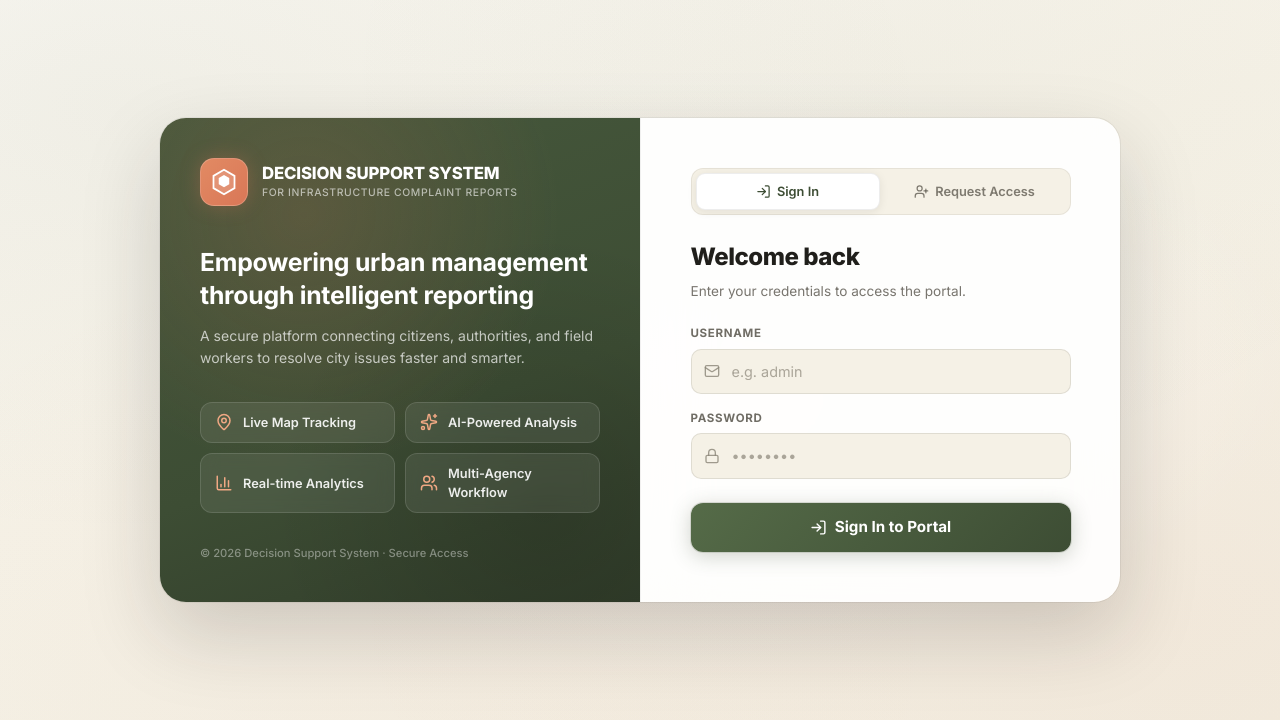
Test case: API Intercept & Error Handling › handles server failure (500 error) gracefully
Type "admin" into the field with placeholder "e.g. admin" at {"x": 881, "y": 372}, box left=691, top=349, right=1071, bottom=395
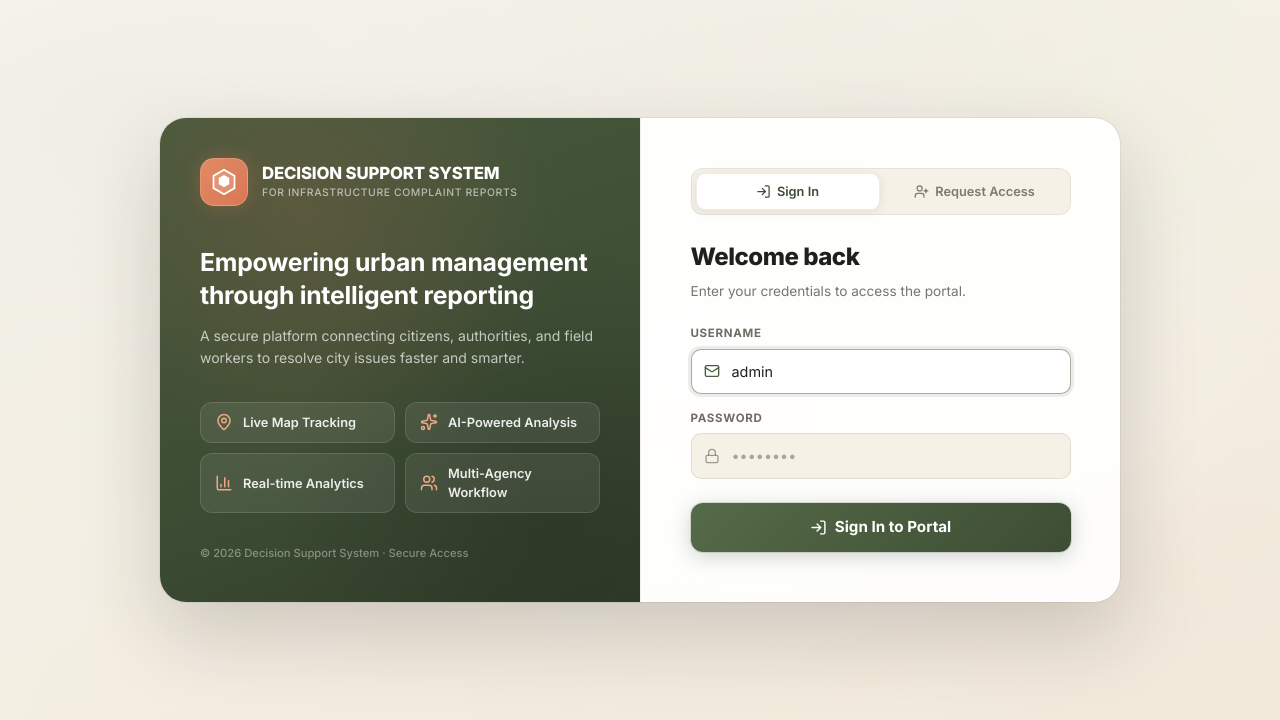
Type "password" into the password field with placeholder "••••••••" at {"x": 881, "y": 456}, box left=691, top=433, right=1071, bottom=479
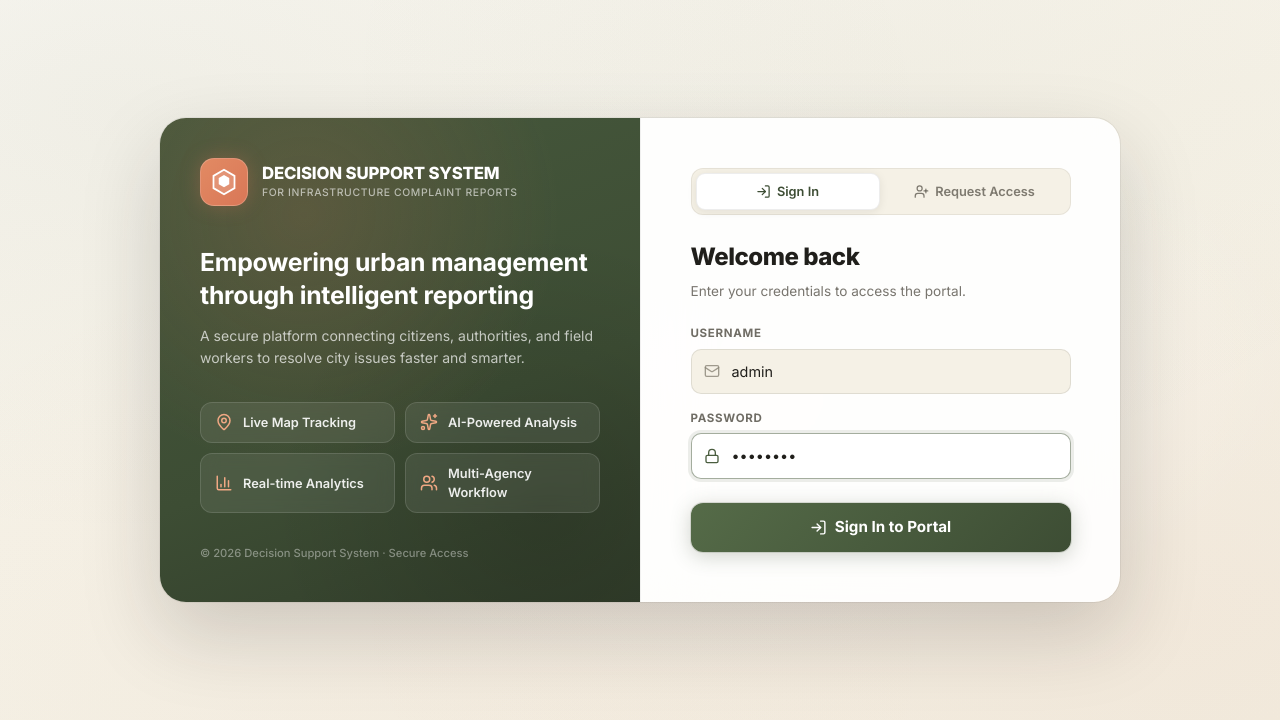
Click the submit button at {"x": 881, "y": 528}, box left=691, top=503, right=1071, bottom=552
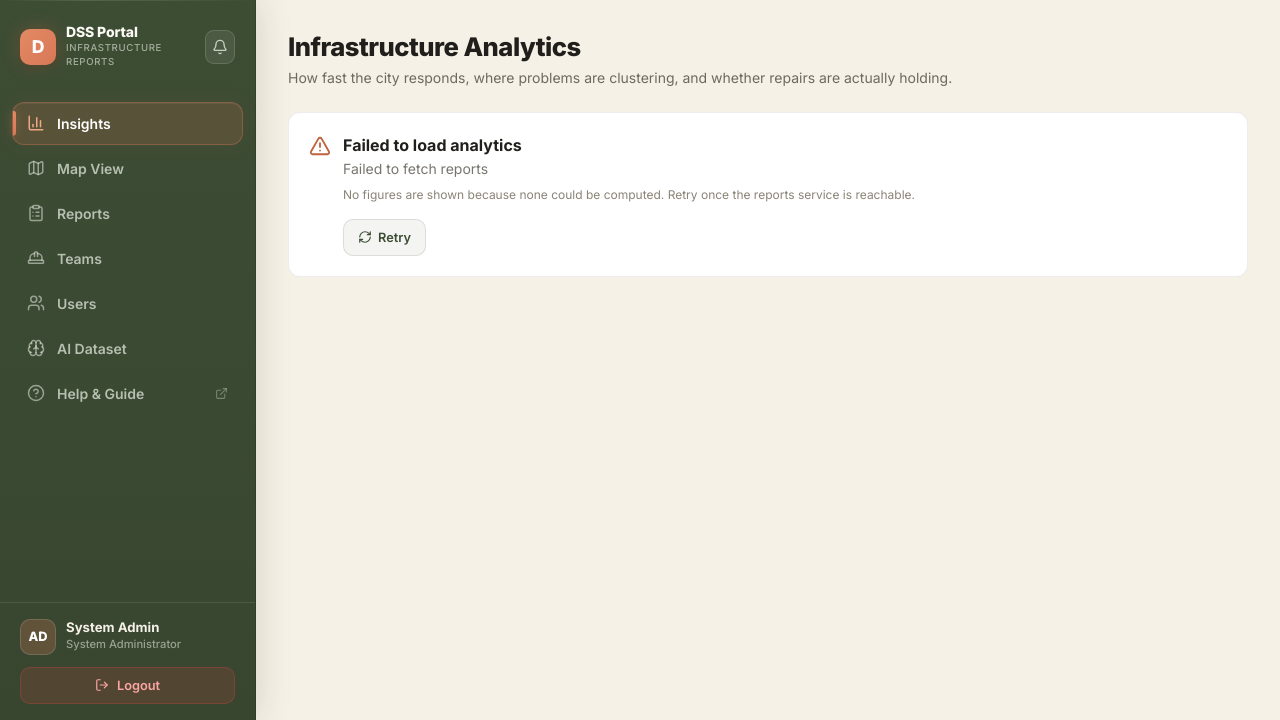
Click the link "Reports" at {"x": 69, "y": 213}, box left=27, top=204, right=110, bottom=222
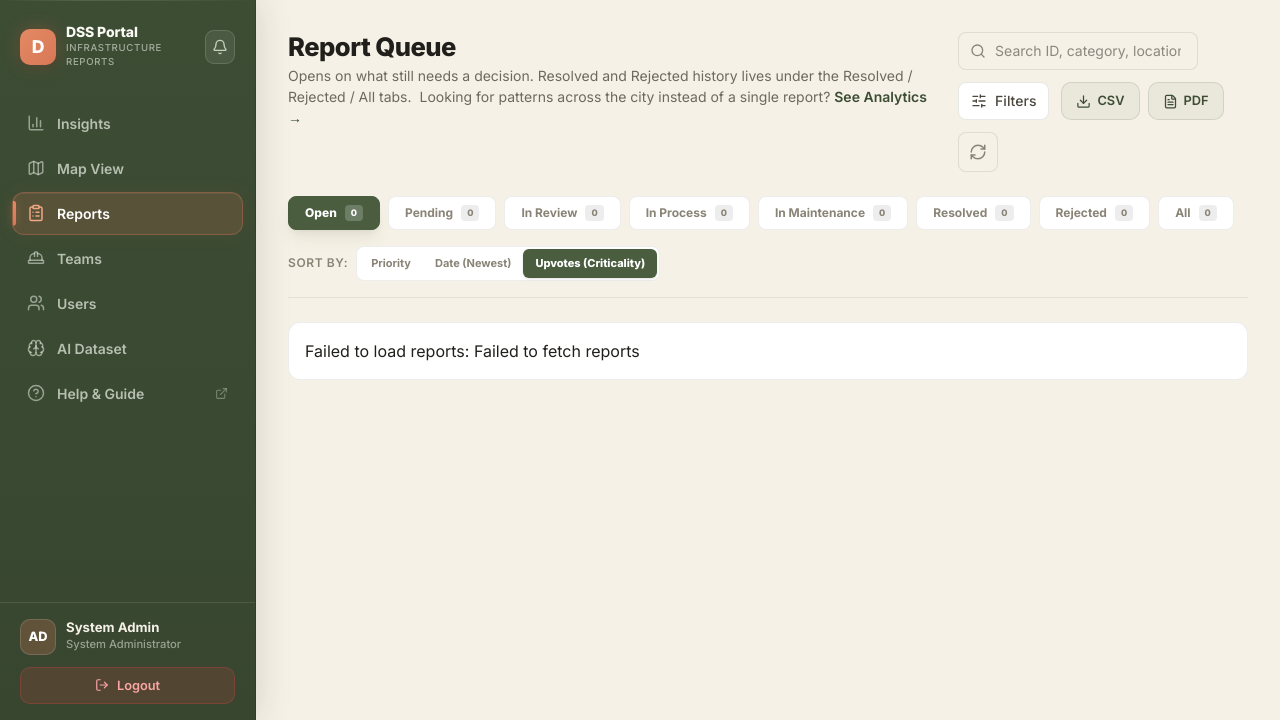
Check: the text "Failed to load reports" is shown, box left=305, top=341, right=474, bottom=361
